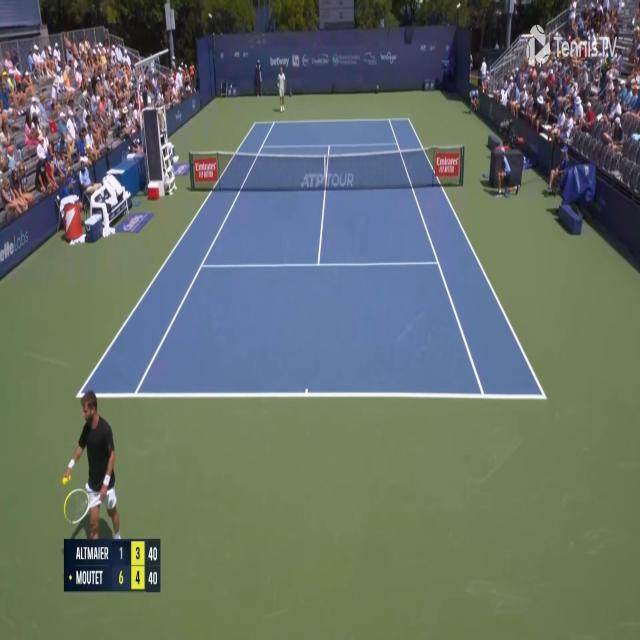tennis-player: (60, 315, 125, 553), (276, 66, 288, 114)
